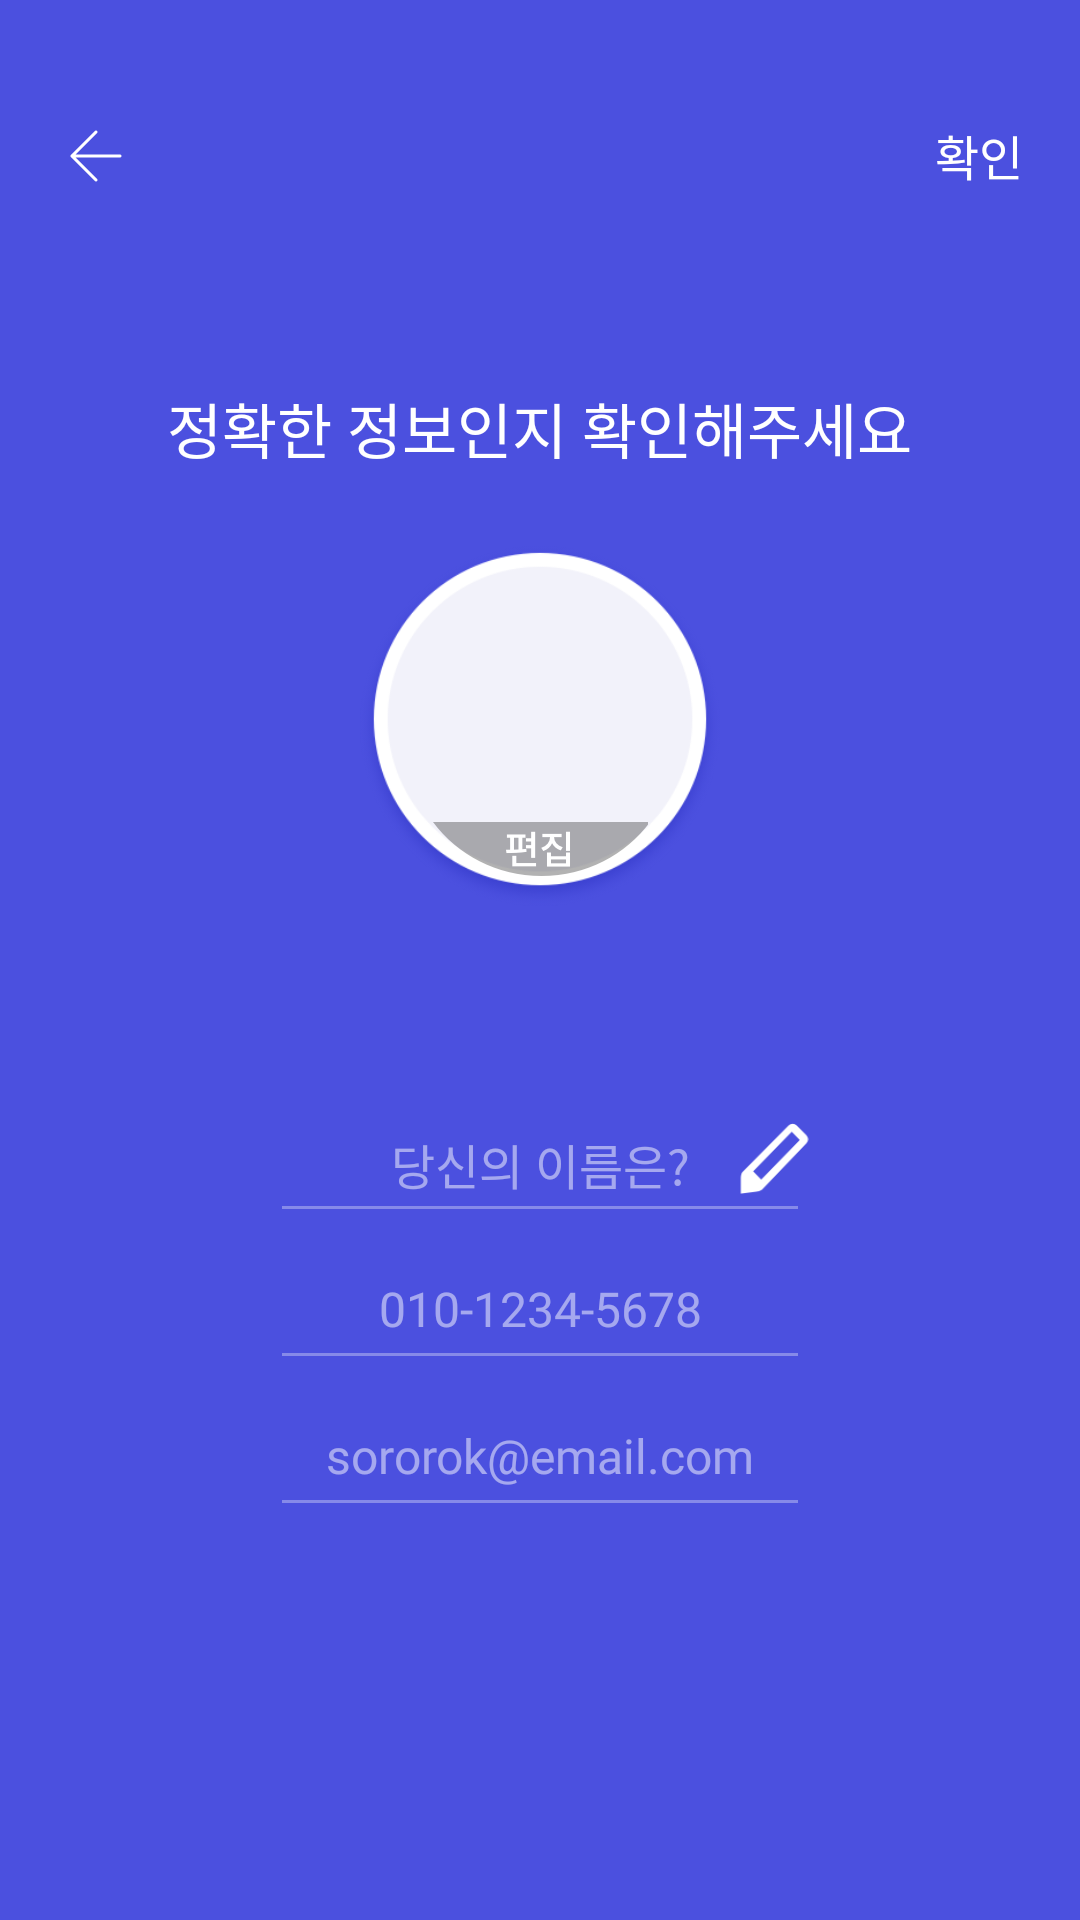

Screen size 1080px x 1920px. Icon name, then its box in pixels as (x1, y1, x2, y2):
comm back wh: (70, 130, 122, 182)
